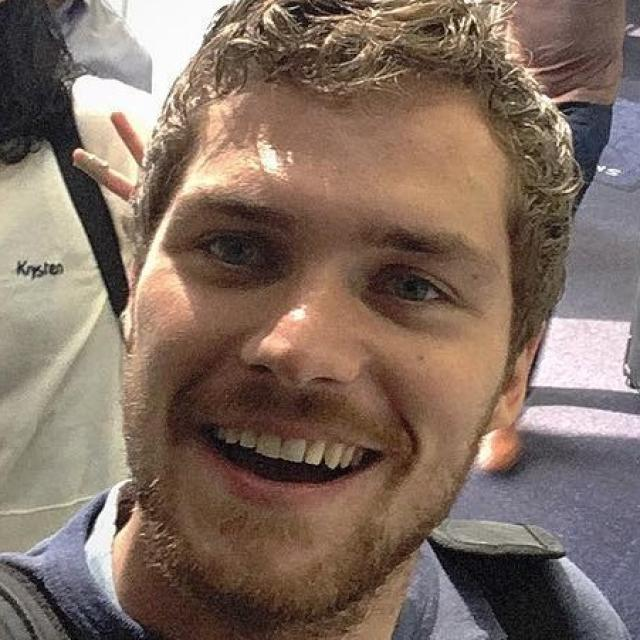Normal: (128, 85, 520, 624), (129, 90, 517, 623)
